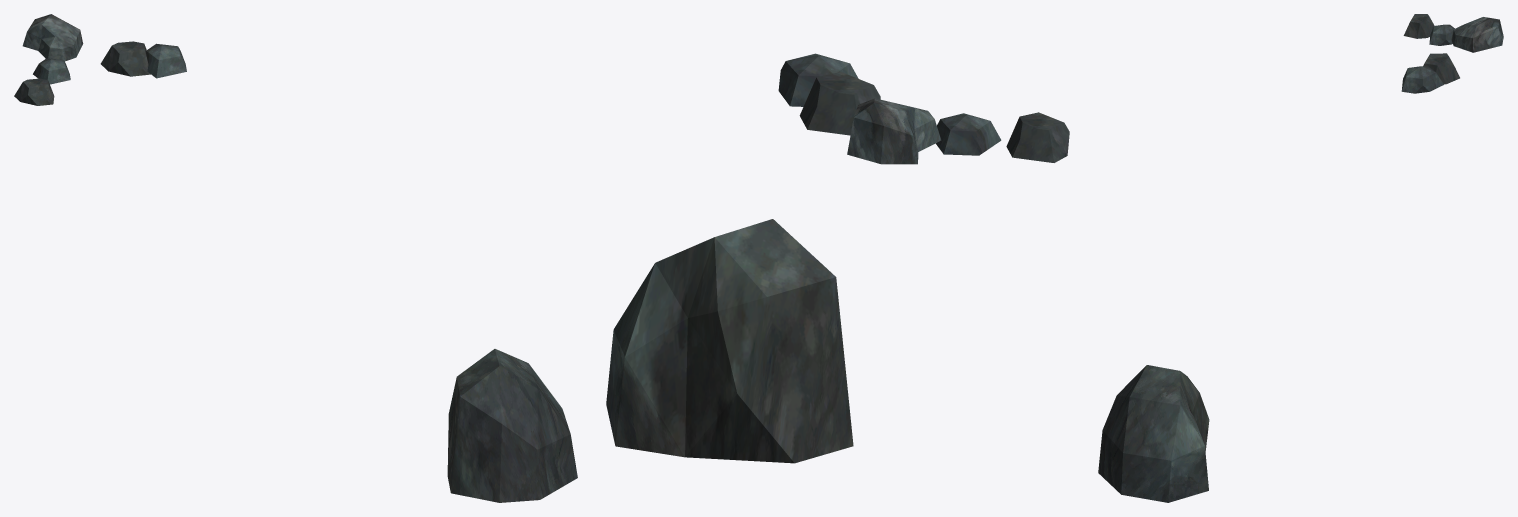
The model's file is object_rubble19.fbx.
The picture shows the model from 3 angles, left to right: view 1: azimuth 30°, elevation 25°; view 2: azimuth 150°, elevation 25°; view 3: azimuth 270°, elevation 25°; orthographic projection. The views are drawn at different scales.
Visible parts, largest first — view 1: obj0.093; view 2: obj0.093; view 3: obj0.093.
Part boxes in pixels (x1,y1,x2,y2): obj0.093: (14,14,577,502); obj0.093: (606,53,1069,463); obj0.093: (1098,14,1503,502).
Size of the model in its own units: 6.59 by 6 by 6.48.
